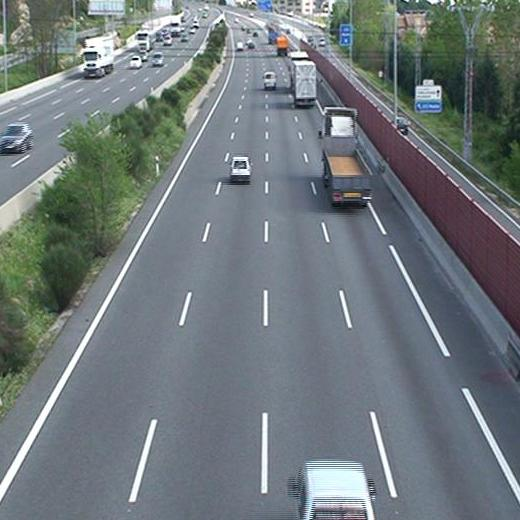car: (229, 158, 253, 182)
small-truck: (276, 35, 287, 55)
truck: (317, 106, 374, 208), (290, 59, 318, 108)
van: (294, 461, 378, 520), (263, 71, 277, 90)
